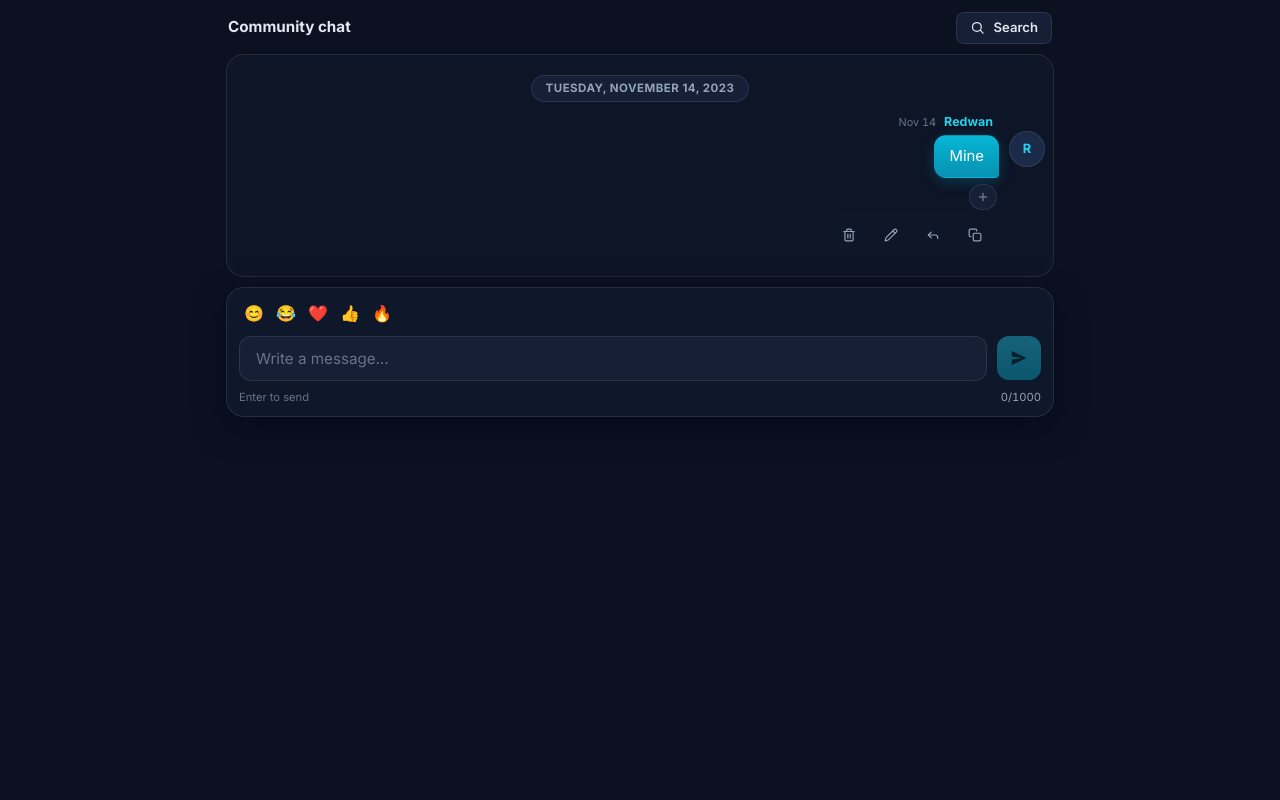
ChatRoom › deleting › does not delete when the confirmation is cancelled
This screenshot has width=1280, height=800.
Step 1. Click the button named "Delete your message" → [849, 235], box [829, 215, 869, 255]
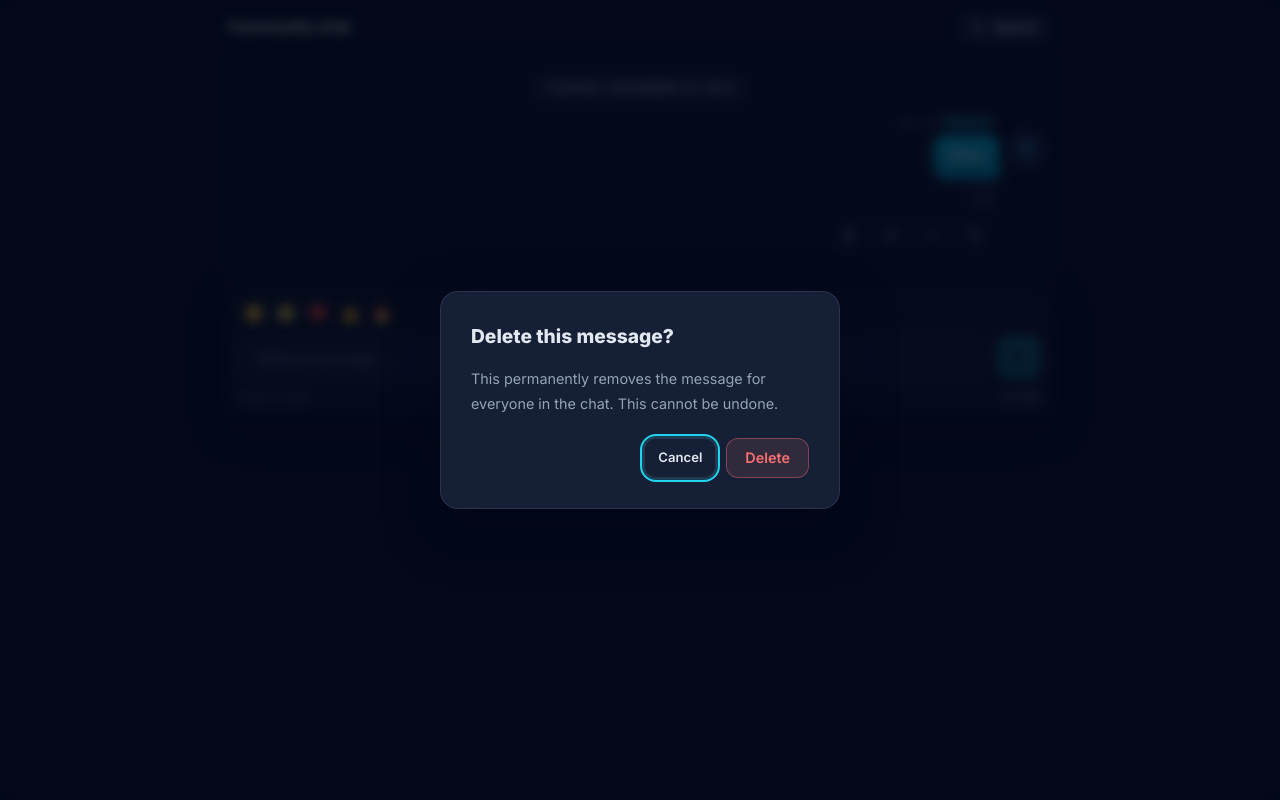
Step 2. Click the button "Cancel" → [680, 458], box [644, 438, 716, 478]
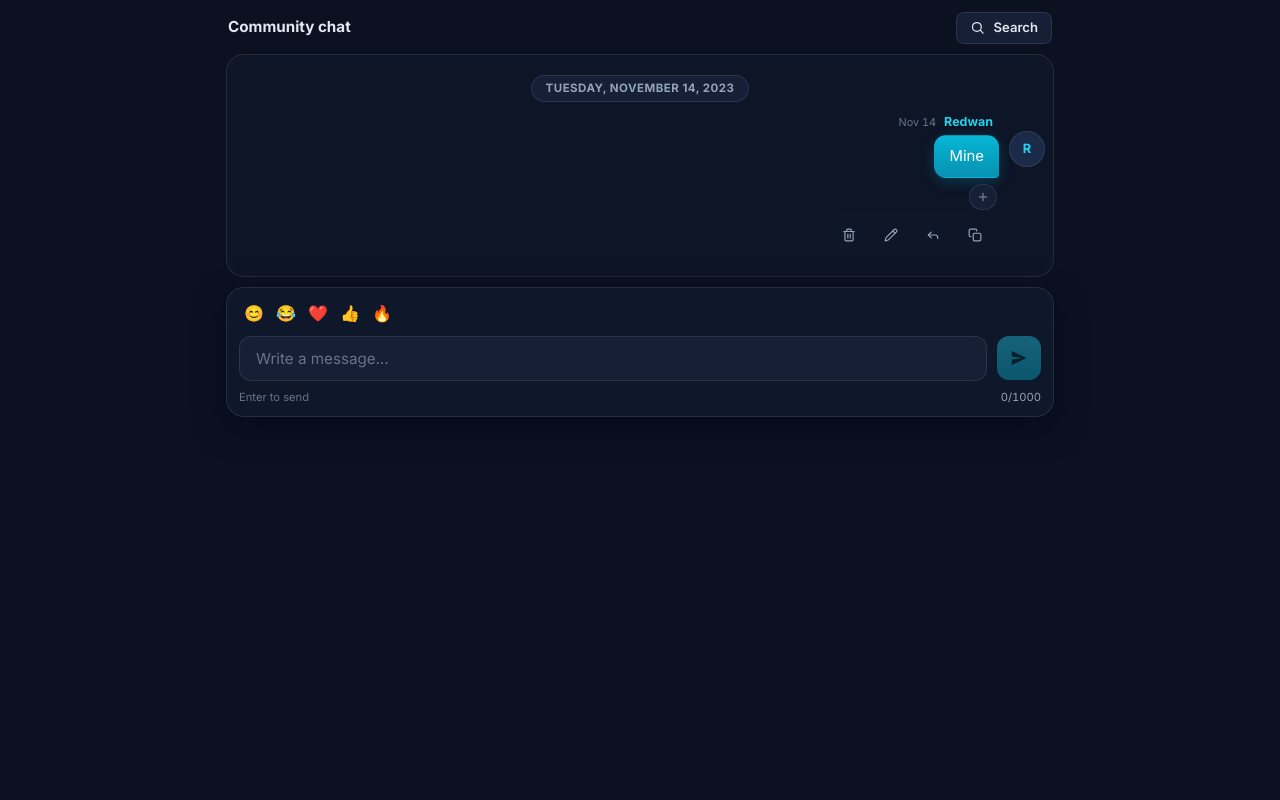
Check: the dialog is gone
